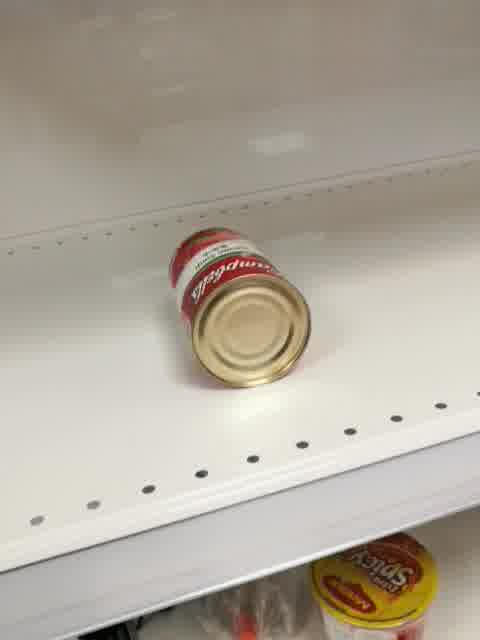tomatosoup: (169, 225, 317, 393)
